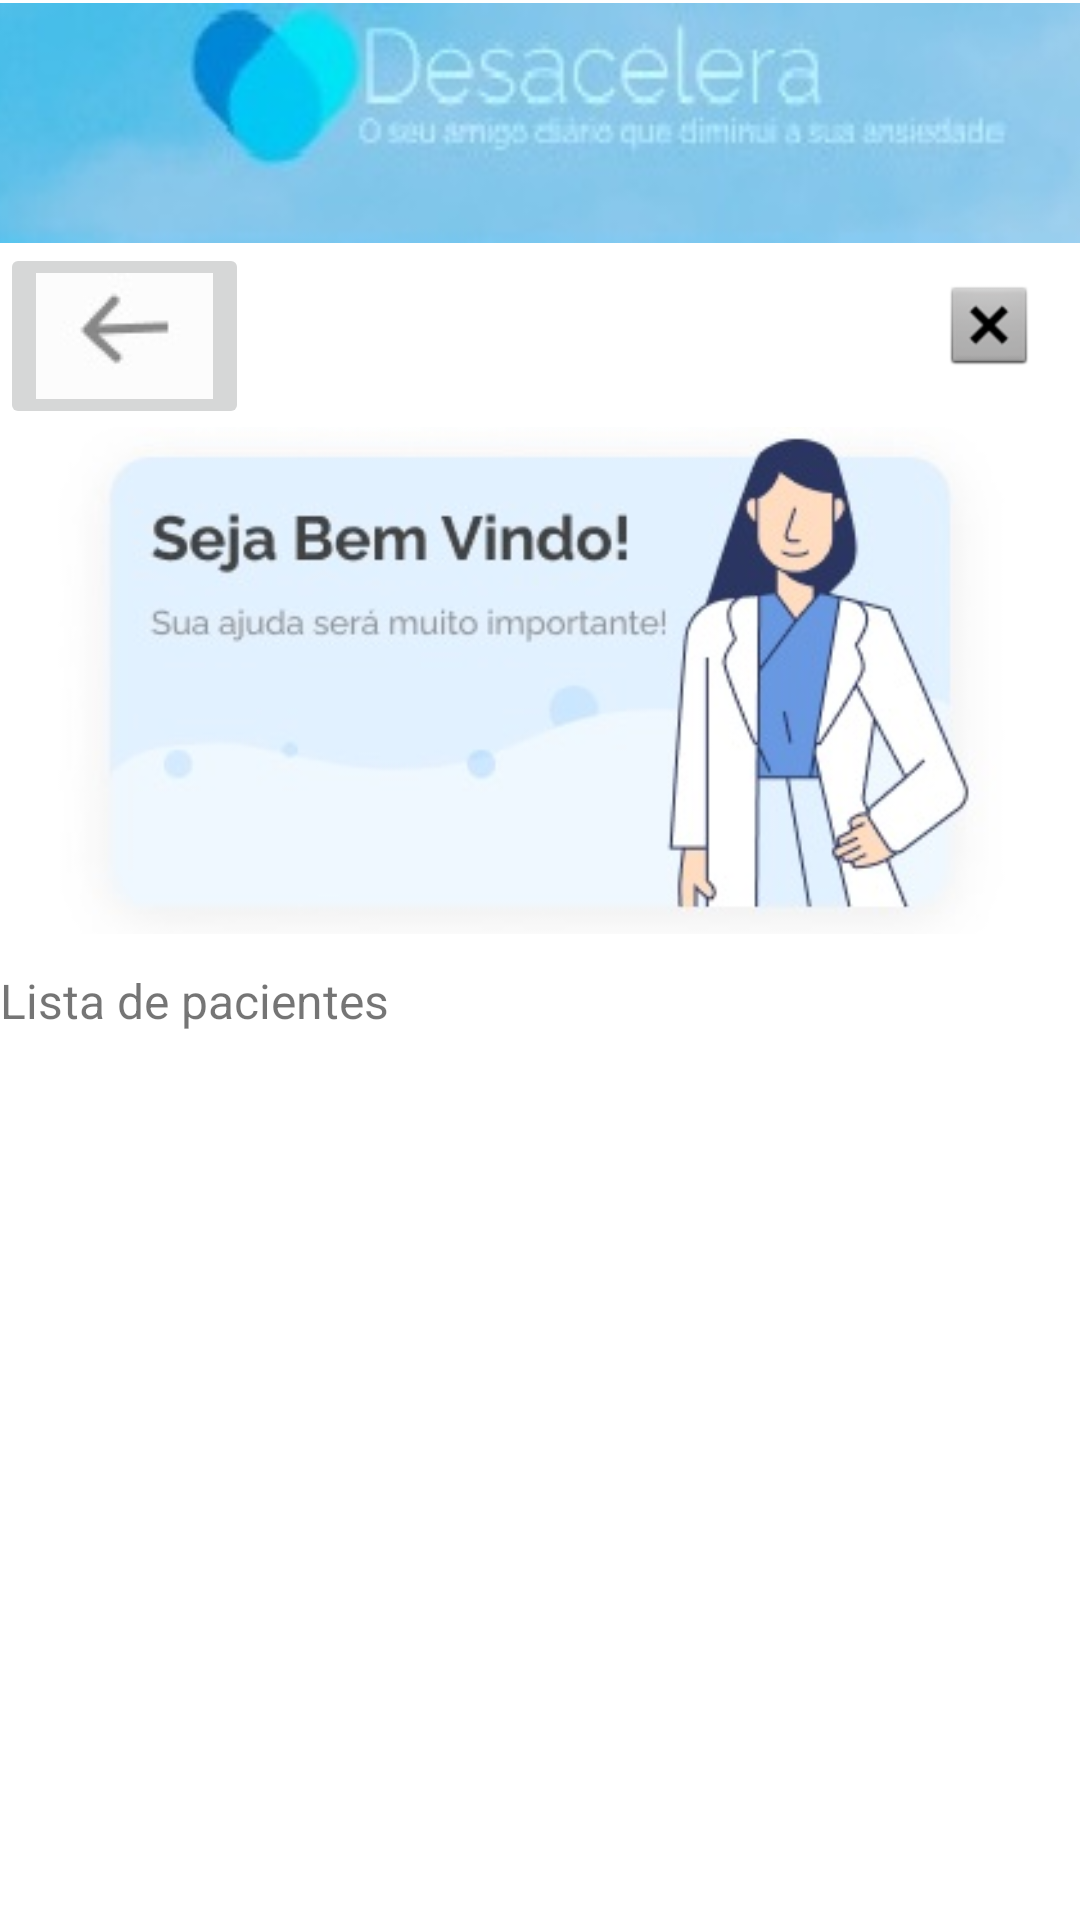

Where icons sit on this 1080px×1920px app screen, as (x1, y1, x2, y2):
fig voltar: (12, 261, 237, 411)
